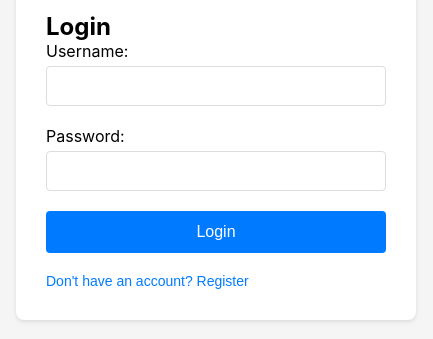
Test: LoginPage › switches to registration form
The width and height of the screenshot is (433, 339).
Click the button "Don't have an account? Register" at {"x": 147, "y": 281}, box 46,273 -> 249,289
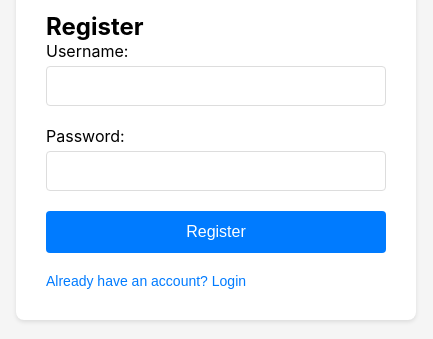
Check: the button "Register" is shown, box 46,211 -> 386,253
Check: the button "Already have an account? Login" is shown, box 46,273 -> 246,289
